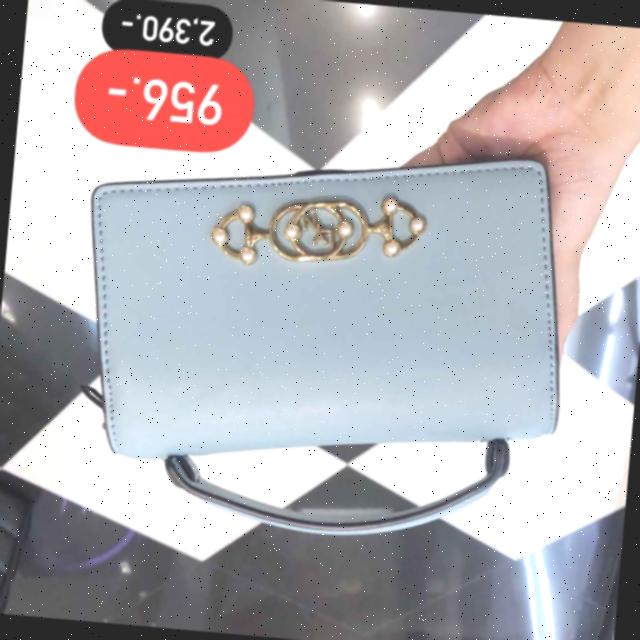Handbag: (64, 118, 582, 506)
